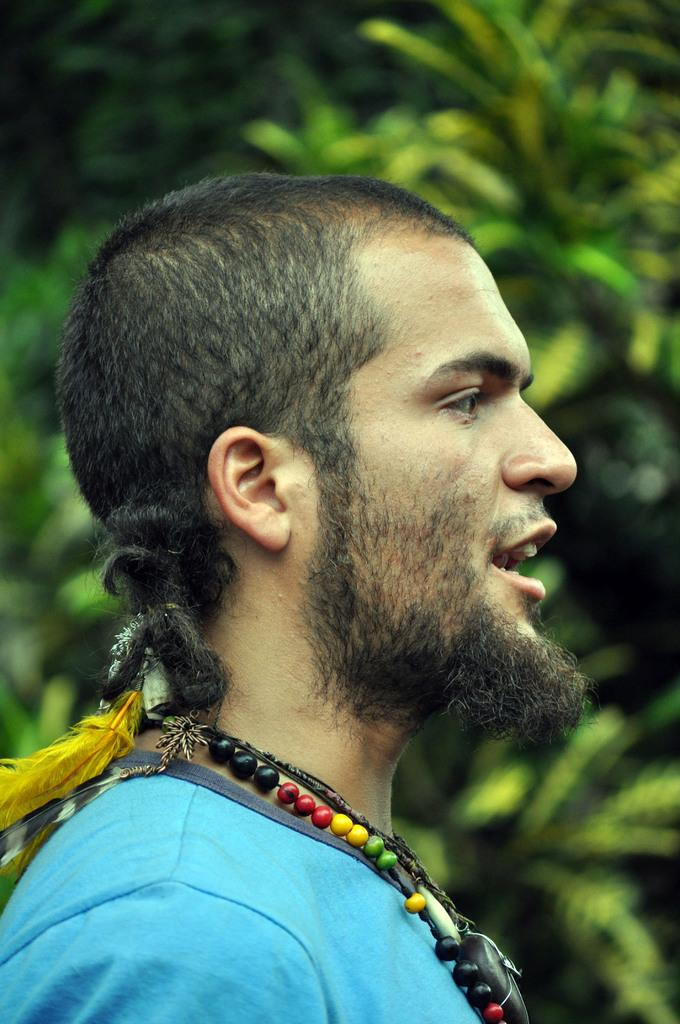Sem Máscara: (281, 237, 573, 634)
